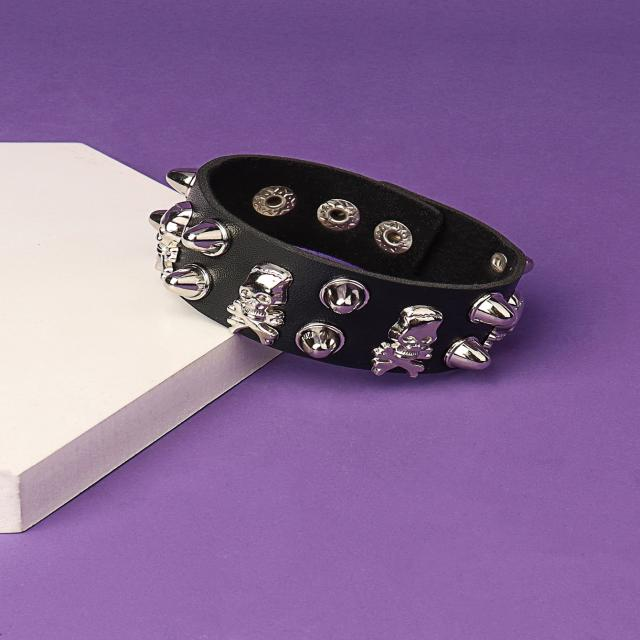bracelet: (176, 96, 602, 428)
